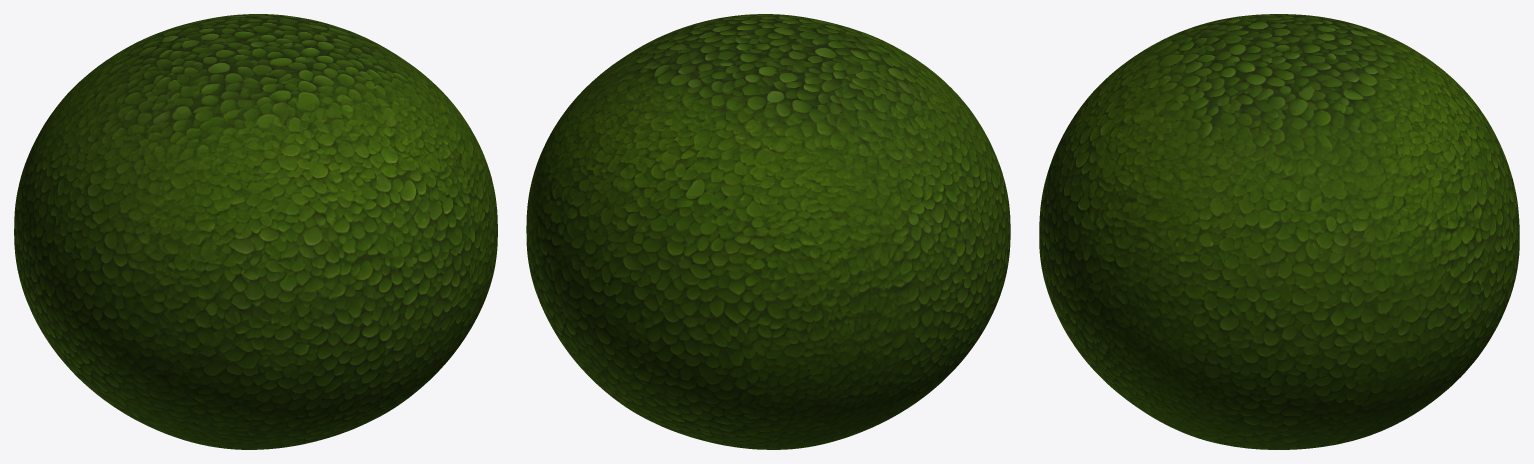
File: Boxwood.glb
The picture shows the model from 3 angles, left to right: view 1: azimuth 30°, elevation 25°; view 2: azimuth 150°, elevation 25°; view 3: azimuth 270°, elevation 25°; orthographic projection.
Parts seen in each view (by area): view 1: node_0; view 2: node_0; view 3: node_0.
Part boxes in pixels (box(x1,y1,x2,y2)): node_0: box(14, 14, 497, 449); node_0: box(526, 14, 1010, 449); node_0: box(1039, 14, 1519, 449).
Bounding box in the file's own units: 1.19 × 1.01 × 1.18.
1 material, 1 textured.
